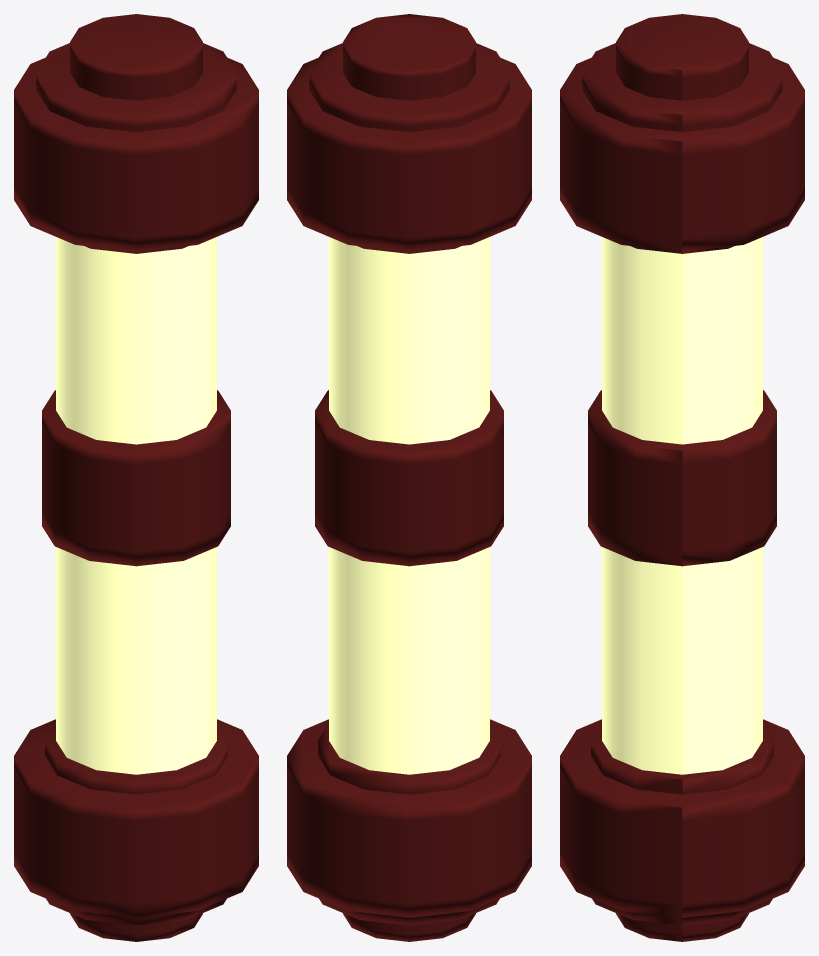
The model's file is scroll_small.fbx.
The picture shows the model from 3 angles, left to right: view 1: azimuth 30°, elevation 25°; view 2: azimuth 150°, elevation 25°; view 3: azimuth 270°, elevation 25°; orthographic projection.
Visible parts, largest first — view 1: scroll_mes; view 2: scroll_mes; view 3: scroll_mes.
Part boxes in pixels (x1,y1,x2,y2): scroll_mes: (14,14,258,941); scroll_mes: (287,14,531,941); scroll_mes: (560,14,804,941).
Size of the model in its own units: 2.9 by 11.39 by 2.9.
